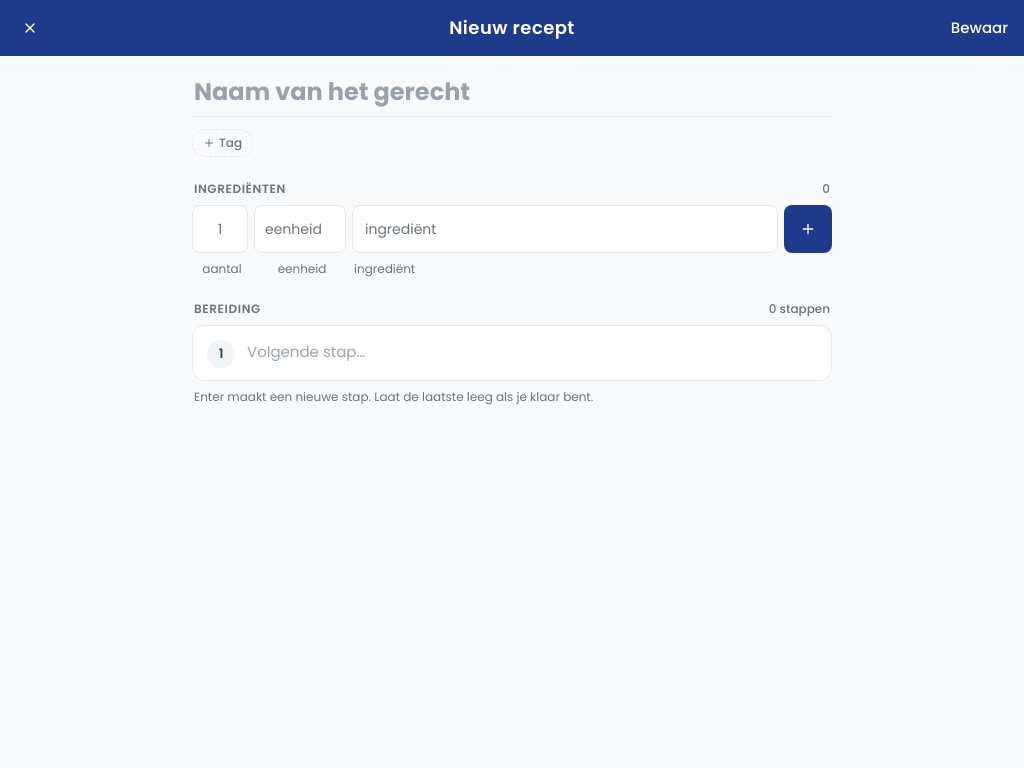
RecipeForm › refuses a line without a name, and a name already on the recipe
Click the button named "Ingrediënt toevoegen": (808, 229) x1=784 y1=205 x2=832 y2=253
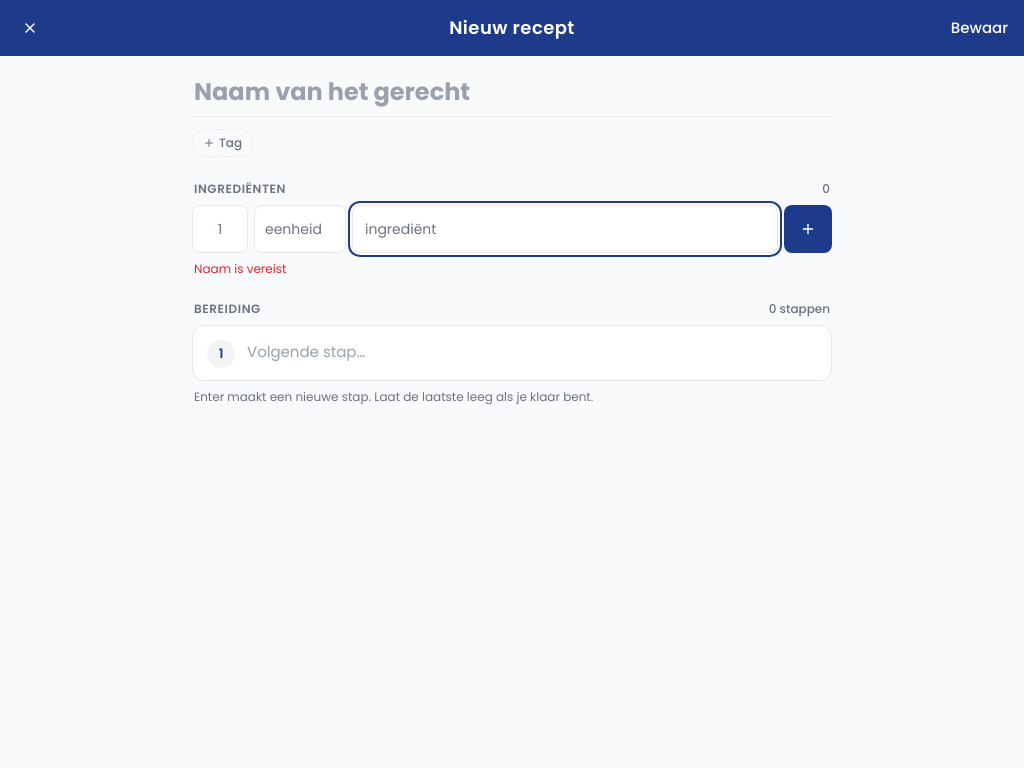
expect the text "Naam is vereist" is shown: met, box x1=194 y1=260 x2=286 y2=277
In the field labelled "ingrediënt": (565, 229) x1=352 y1=205 x2=778 y2=253, type "ui"
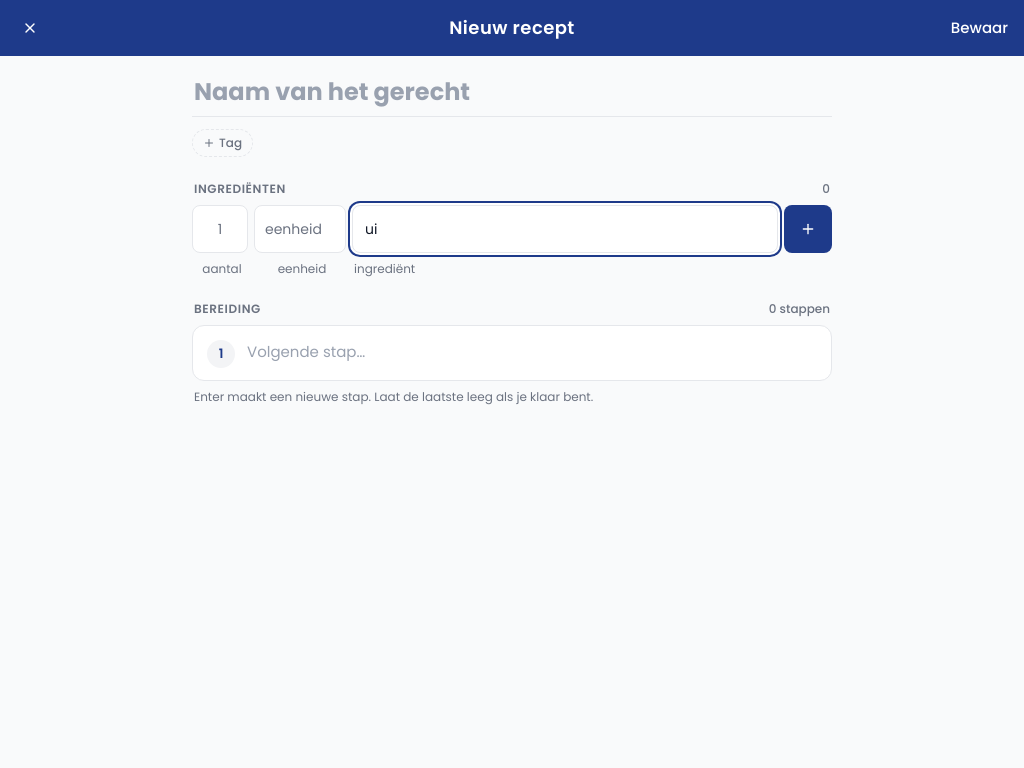
Click the button named "Ingrediënt toevoegen": (808, 229) x1=784 y1=205 x2=832 y2=253
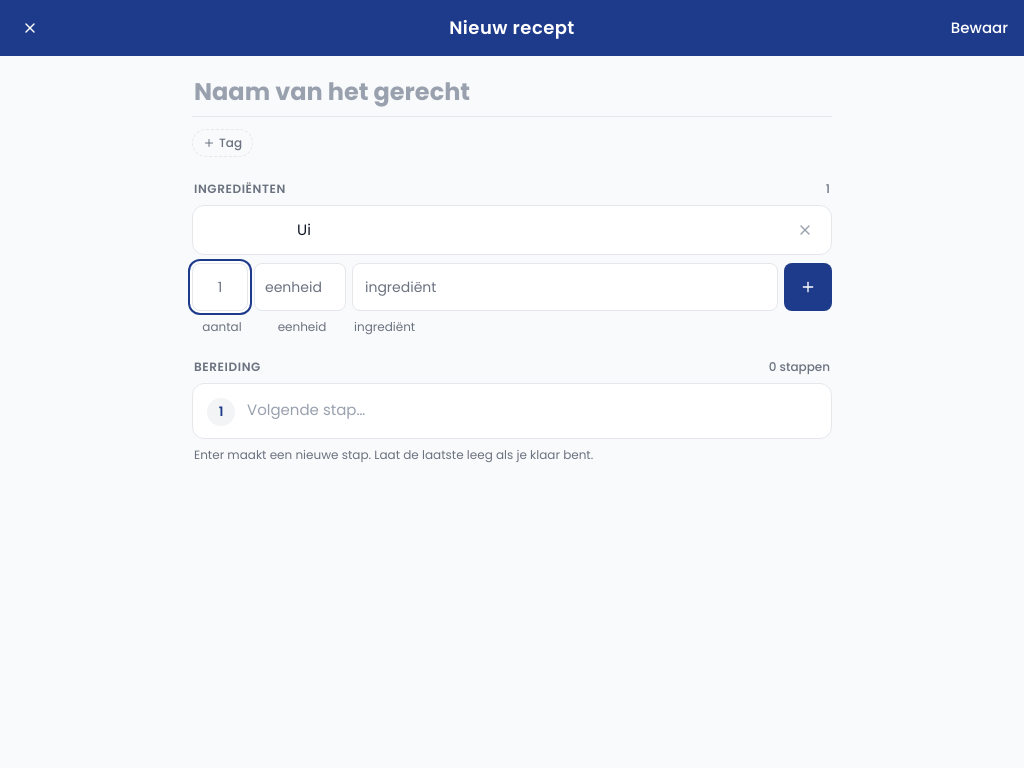
In the field labelled "ingrediënt": (565, 287) x1=352 y1=263 x2=778 y2=311, type " UI "
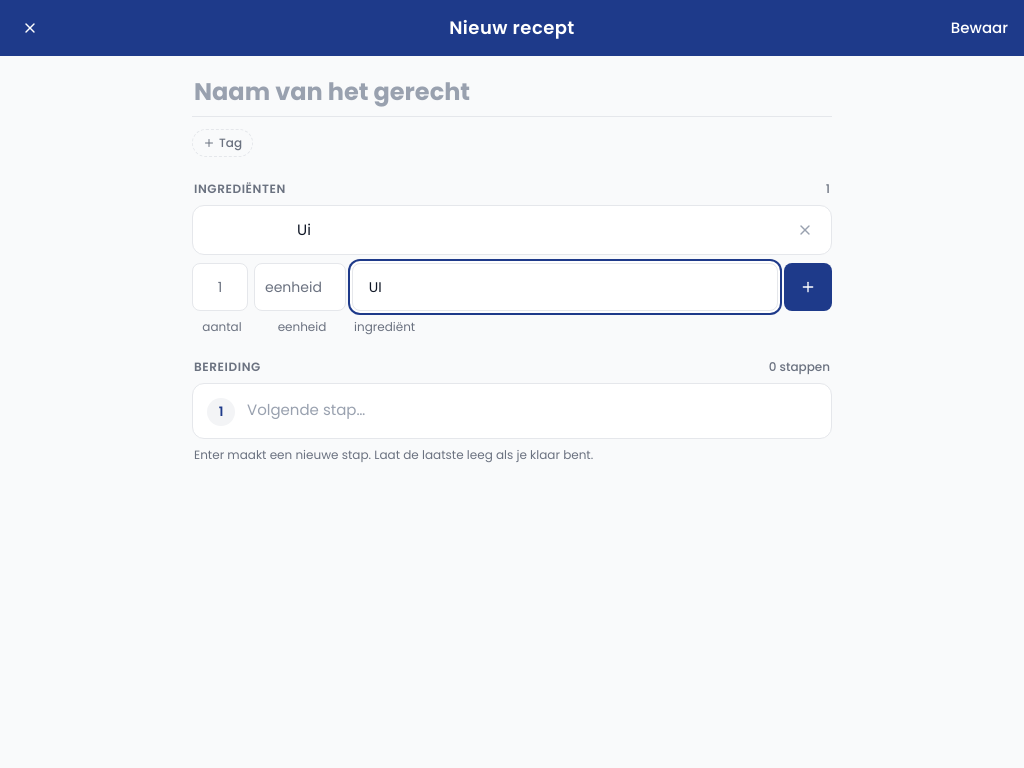
Click the button named "Ingrediënt toevoegen": (808, 287) x1=784 y1=263 x2=832 y2=311
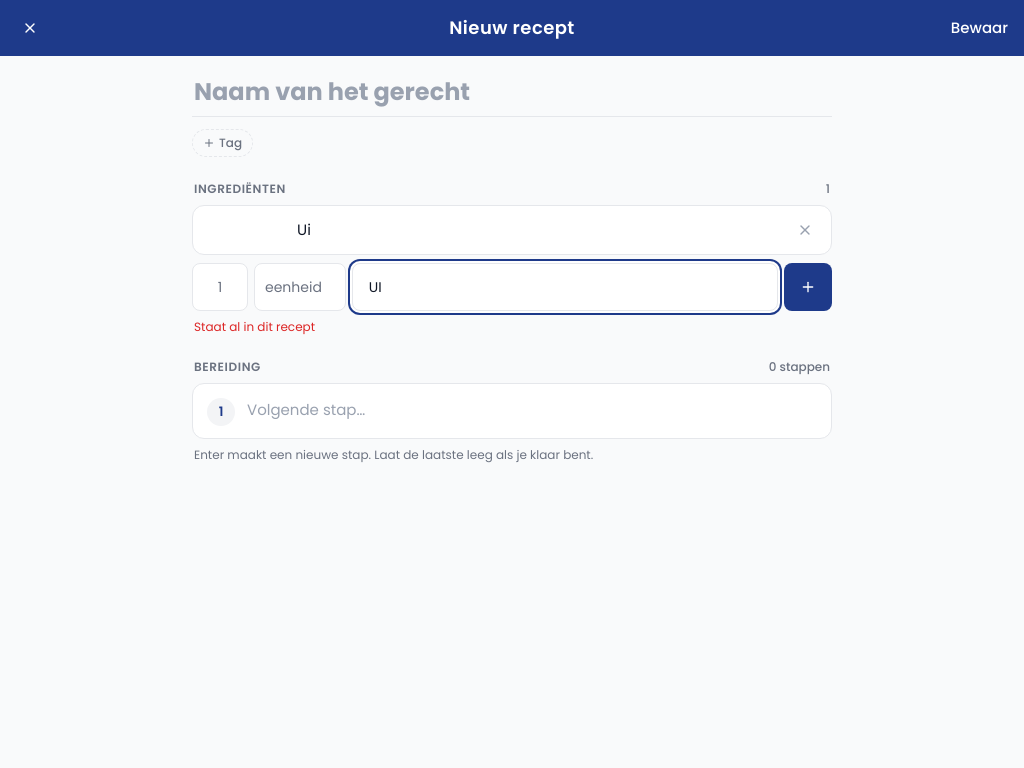
expect the text "ui" is shown once: met, box x1=297 y1=219 x2=311 y2=240
expect the text "Staat al in dit recept" is shown: met, box x1=194 y1=318 x2=315 y2=335
